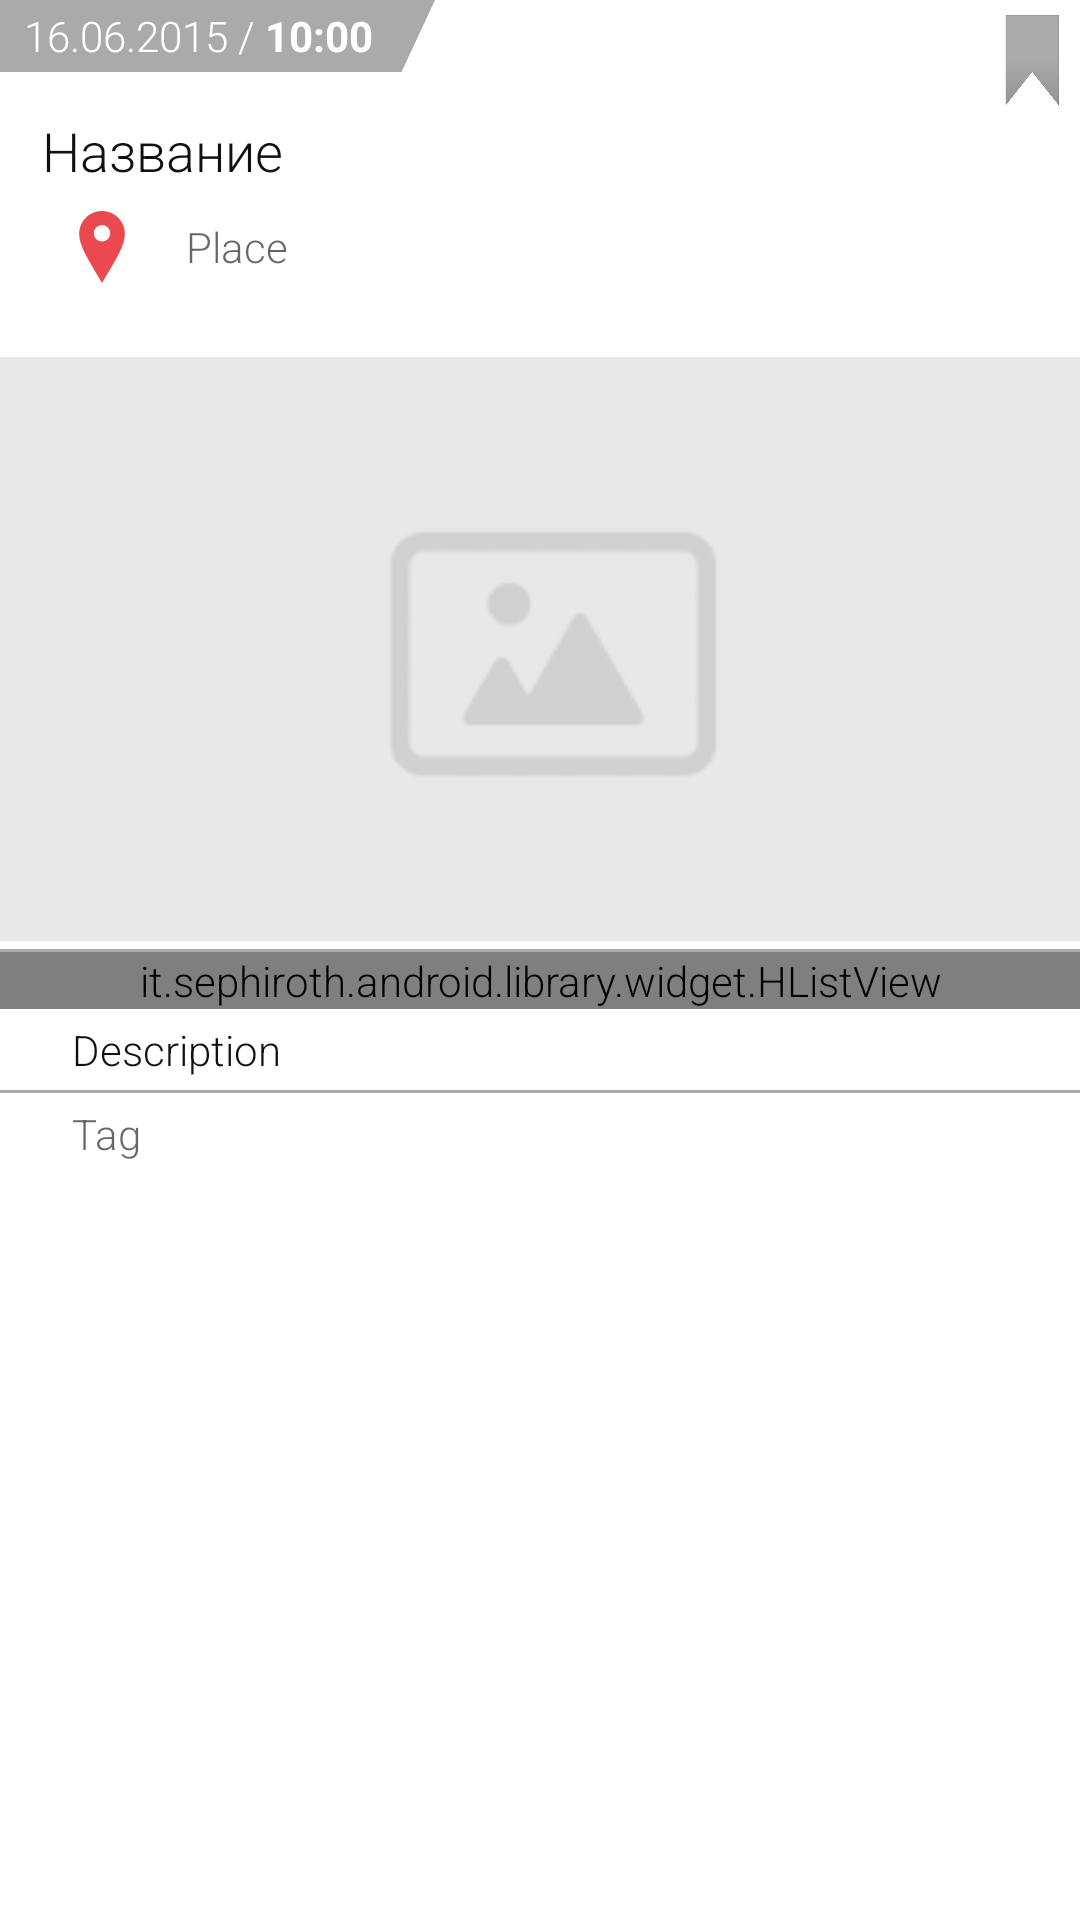

Locate icon controls on the screen. Image size 1080x1920, boxes as (x1, y1, x2, y2).
location: (79, 211, 125, 283)
